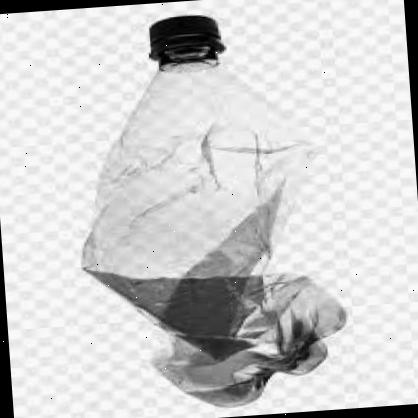bottle: (63, 0, 362, 416)
cap: (144, 11, 232, 65)
